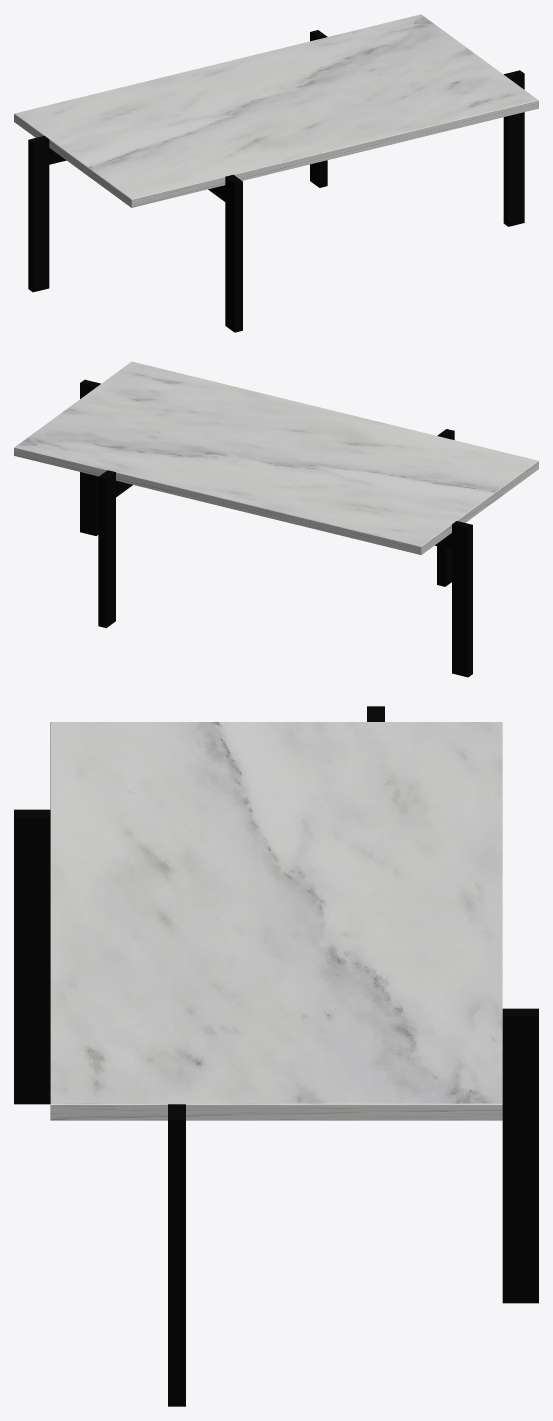
File: Ibiza000000.gltf
The picture shows the model from 3 angles, top to bottom: view 1: azimuth 30°, elevation 25°; view 2: azimuth 150°, elevation 25°; view 3: azimuth 270°, elevation 25°; orthographic projection. The views are drawn at different scales.
Size of the model in its own units: 1.08 by 0.35 by 0.58.
2 materials, 1 textured.
